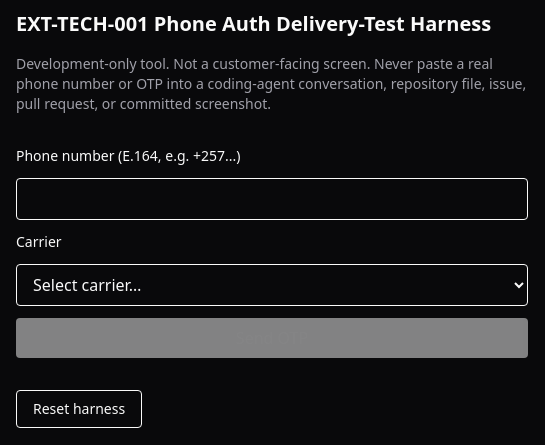
Scenario: PhoneAuthHarnessPage › runtime phone input › requires a carrier selection before sending is enabled
Step 1. Type "+25779123456" into the field labelled "Phone number (E.164, e.g. +257...)" → (272, 199), box [16, 178, 528, 220]
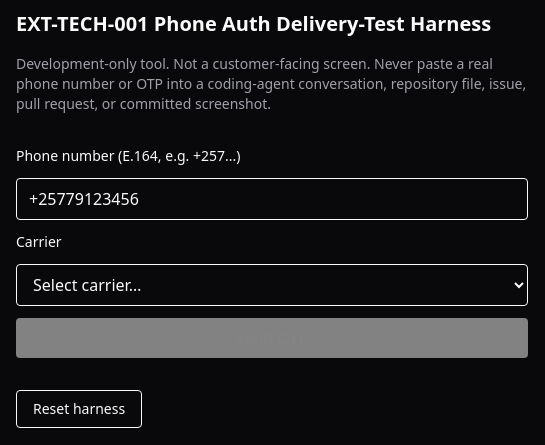
expect the button "Send OTP" is disabled: met, box [16, 318, 528, 358]
Step 2. Select "Lumitel" in the dropdown labelled "Carrier" → (272, 285), box [16, 264, 528, 306]
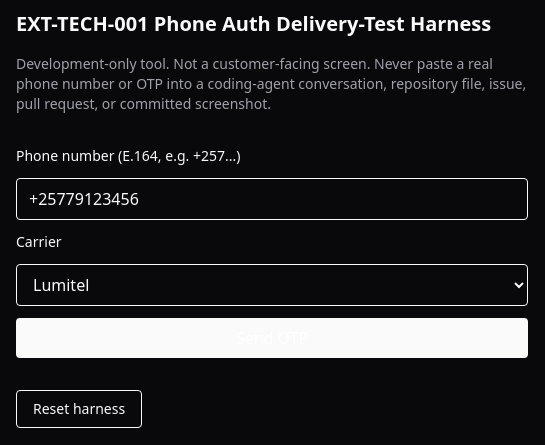
expect the button "Send OTP" is enabled: met, box [16, 318, 528, 358]
